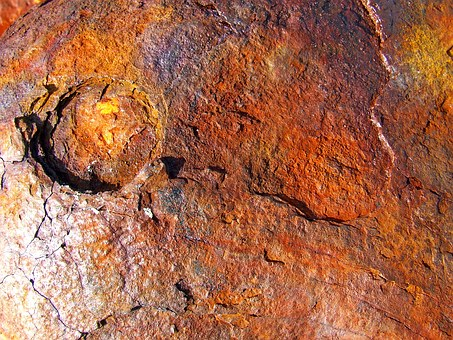rust: (4, 1, 444, 333)
